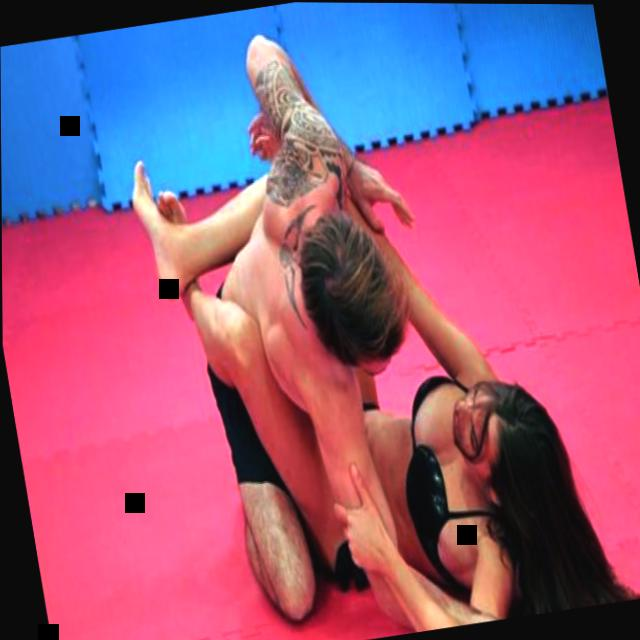Fall-Detected: (116, 36, 542, 640)
